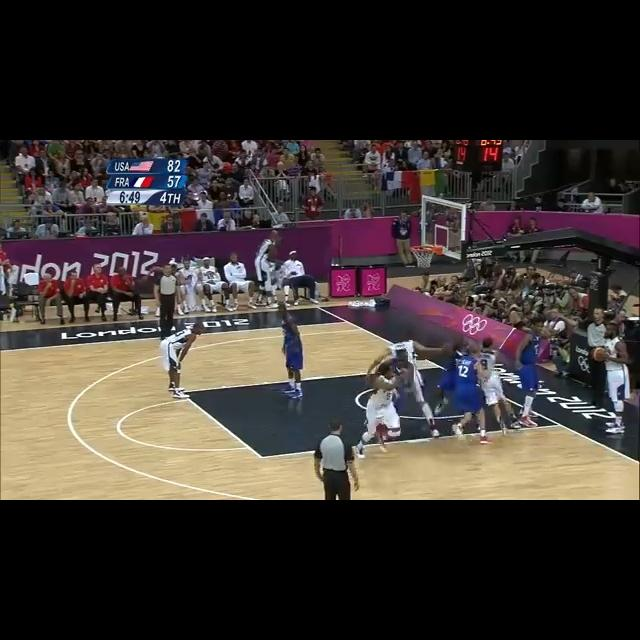basketball: (592, 344, 607, 362)
hoop: (410, 245, 436, 268)
